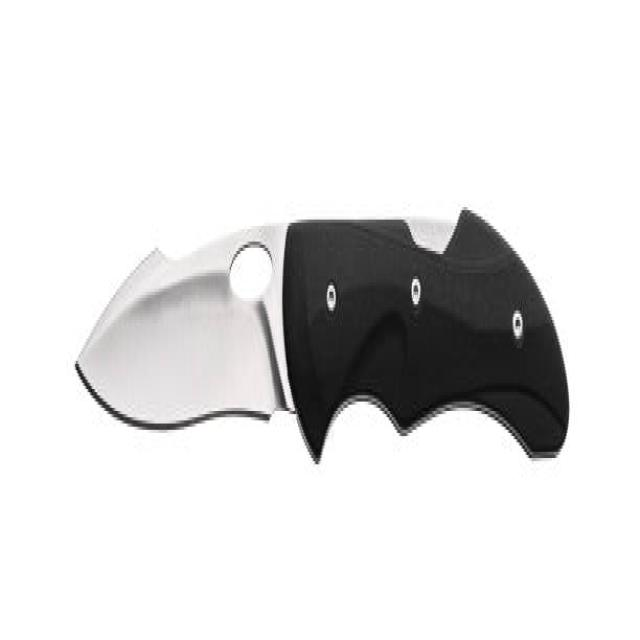knife: (79, 198, 571, 493)
